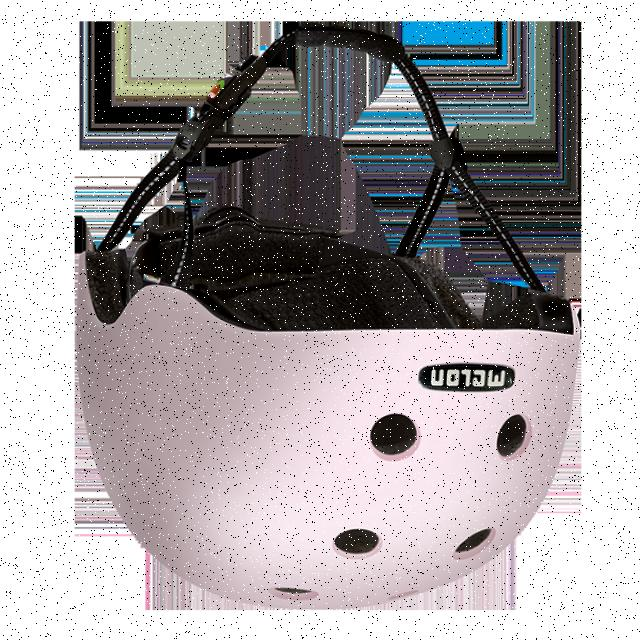Helmet: (76, 208, 579, 609)
